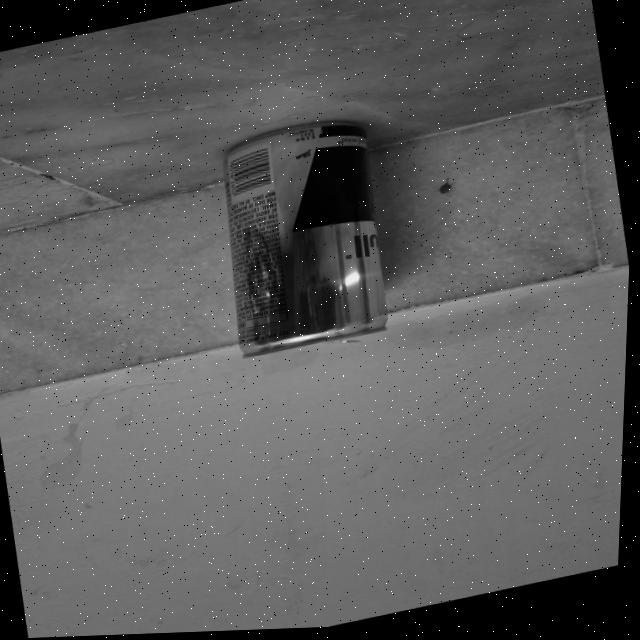Redbul: (199, 111, 419, 368)
